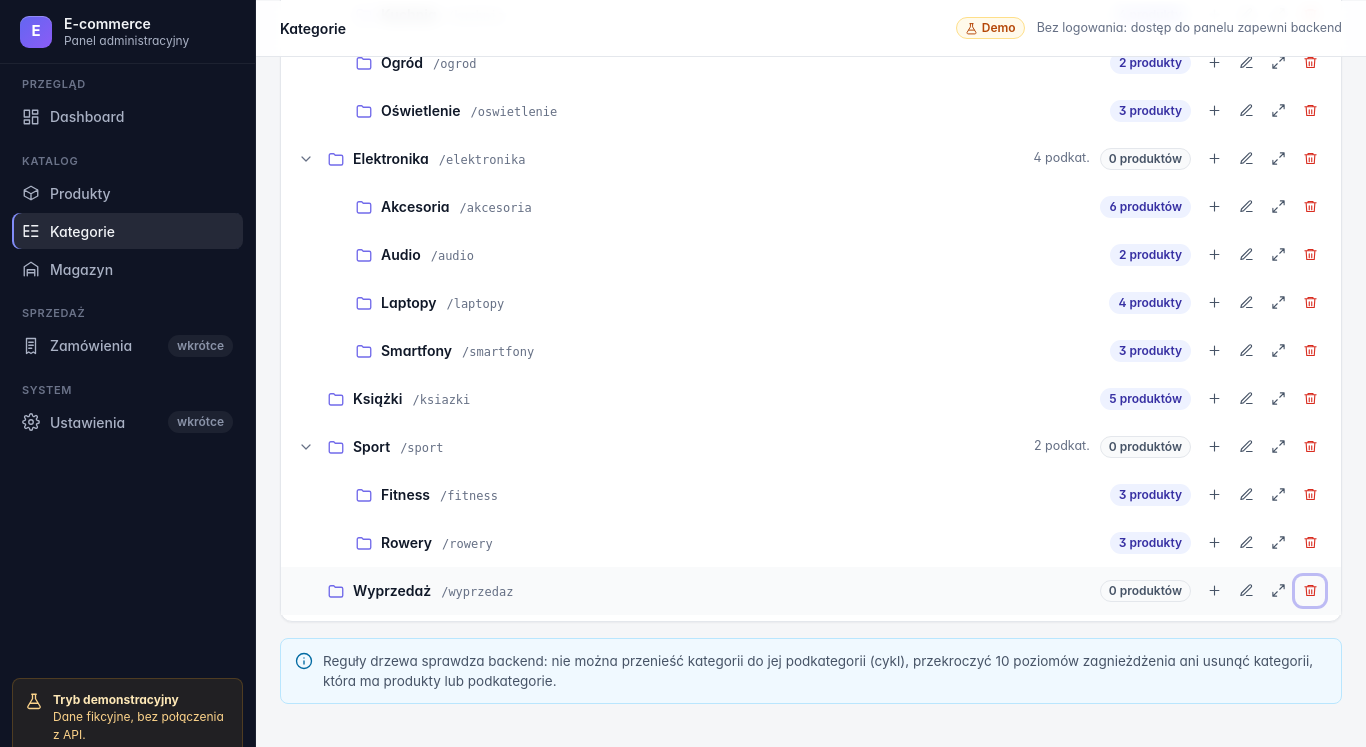
CategoriesPage › deletes an empty category
(page scrolled)
Click the button named "Usuń Wyprzedaż" at (1310, 590), box [1295,576,1325,606]
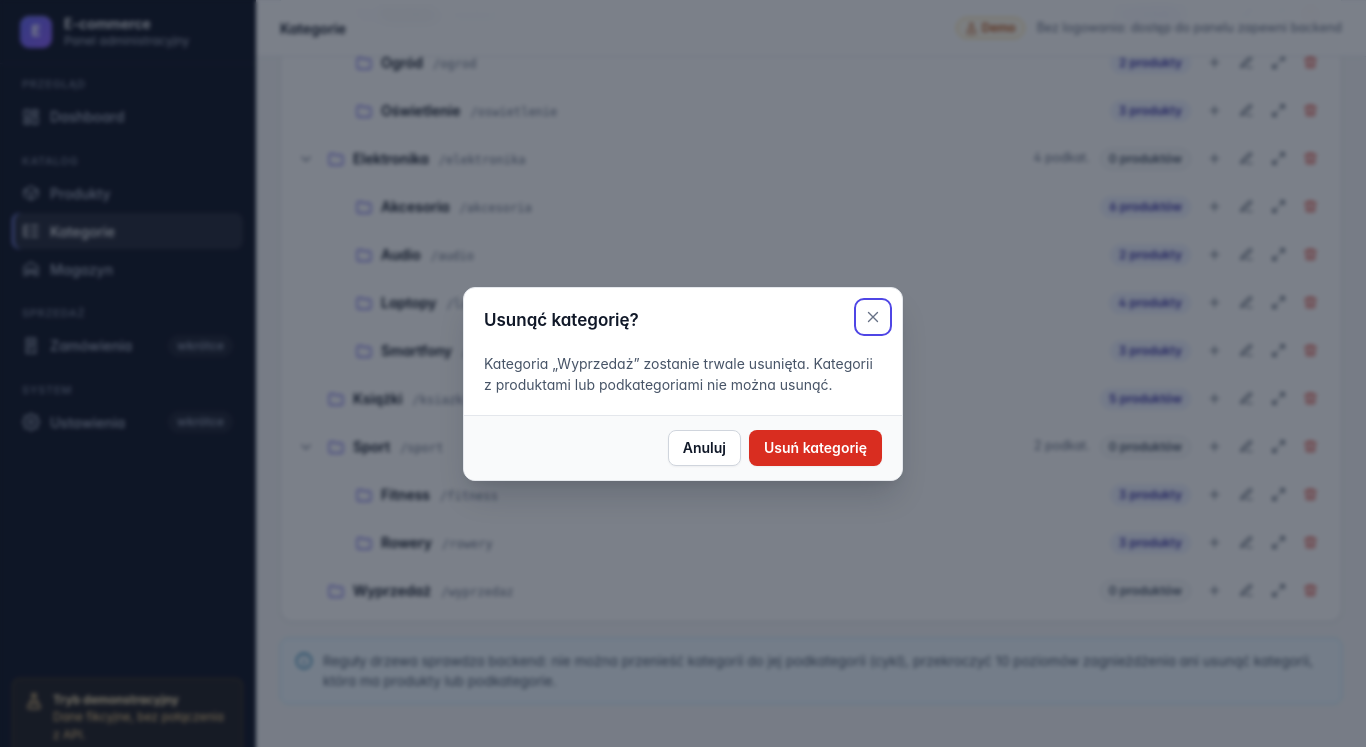
Click the button "Usuń kategorię" at (816, 448), box [749,430,882,466]
(page scrolled)
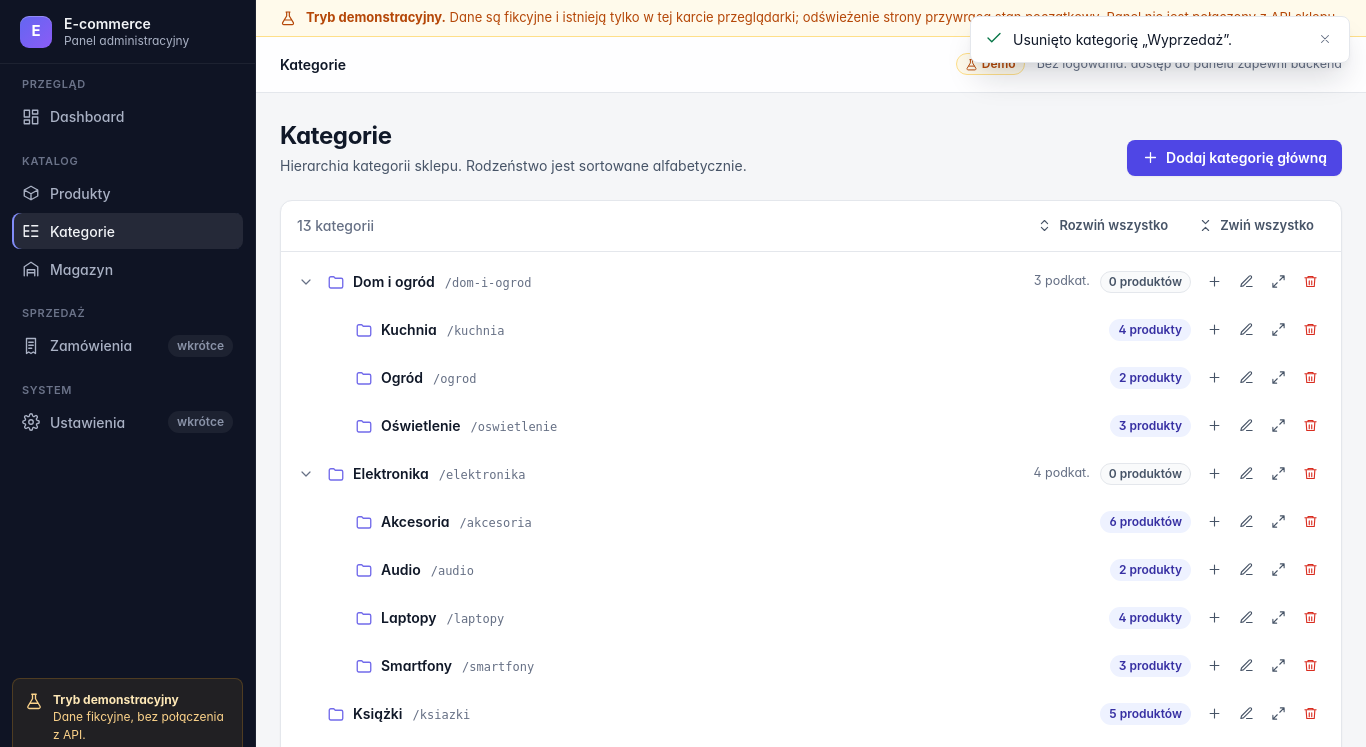
Now the text "Usunięto kategorię „Wyprzedaż”." is shown, box [1013,31,1232,48]
